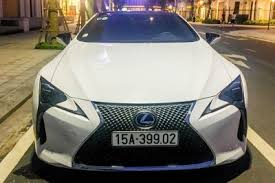number-plate: (112, 132, 177, 145)
